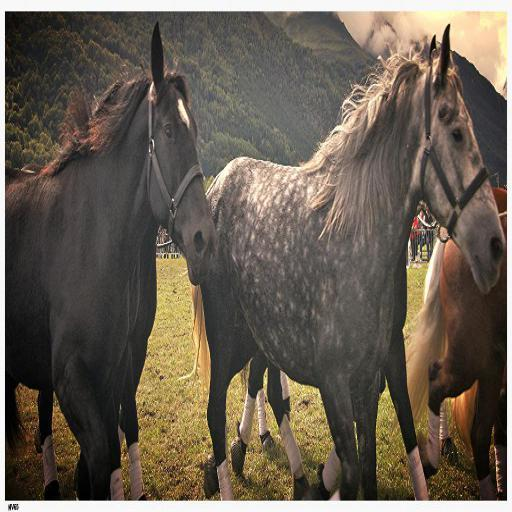horse: (189, 22, 507, 500), (6, 20, 216, 504), (388, 185, 508, 499)
